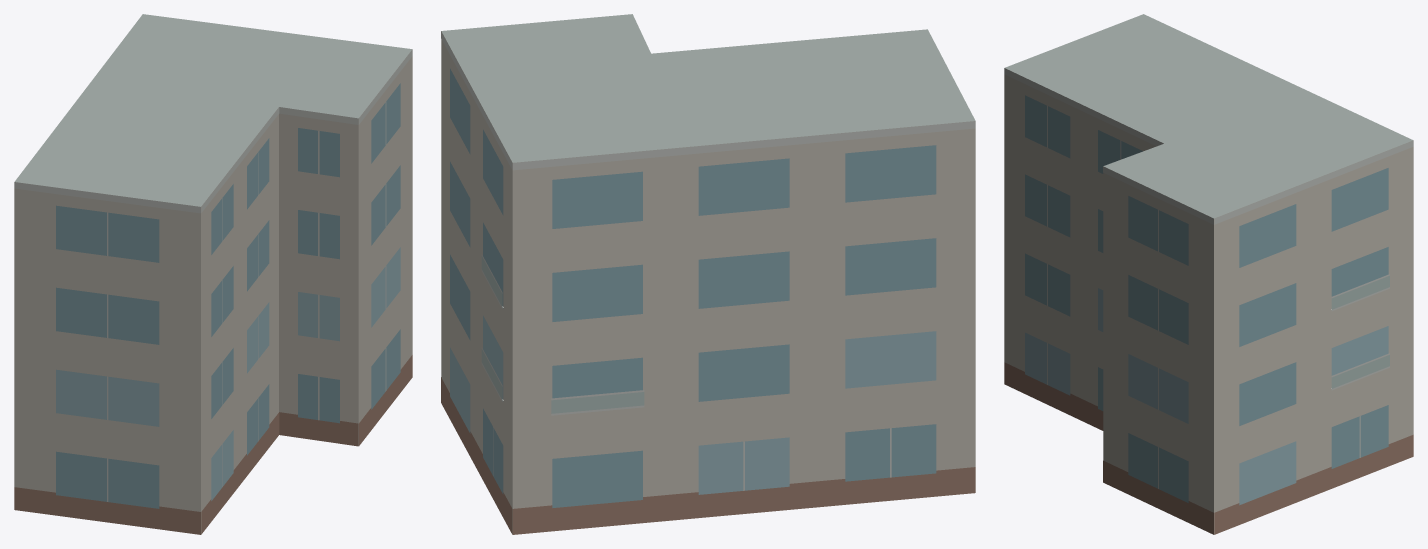
The model's file is survey-upis-32899563.glb.
3 views of the same model, side by side, from view 1: azimuth 30°, elevation 25°; view 2: azimuth 150°, elevation 25°; view 3: azimuth 270°, elevation 25° (orthographic). The views are drawn at different scales.
Visible parts, largest first — view 1: survey-upis-32899563.tmp; view 2: survey-upis-32899563.tmp; view 3: survey-upis-32899563.tmp.
Part boxes in pixels (x1,y1,x2,y2): survey-upis-32899563.tmp: (14,14,412,534); survey-upis-32899563.tmp: (441,14,975,534); survey-upis-32899563.tmp: (1004,14,1413,534).
Bounding box in the file's own units: 16.72 × 12.05 × 14.14.
